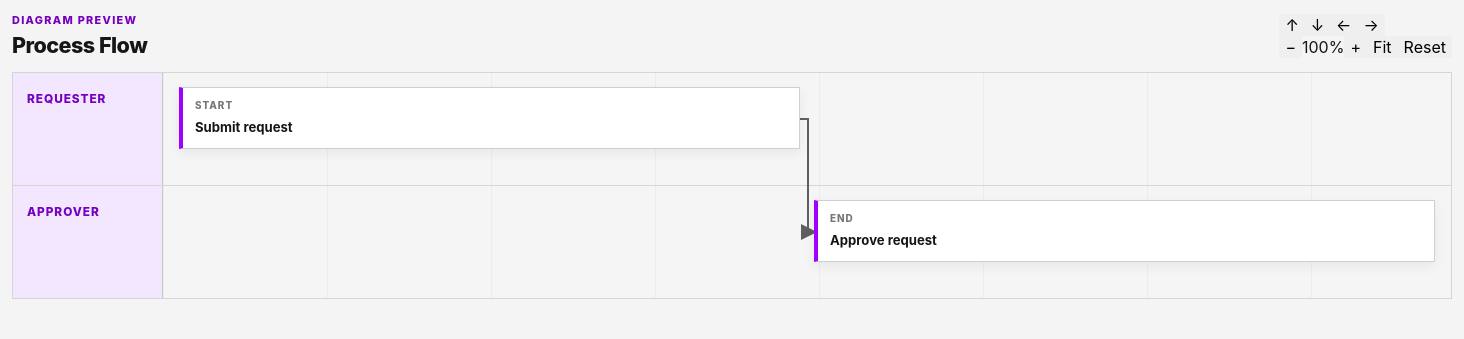
it: ProcessDiagramPreview › updates and resets the diagram zoom level
Expected: the text "100%" is shown, [1302, 37, 1344, 57]
Click the button named "Zoom in": point(1356, 47) [1344, 36, 1367, 58]
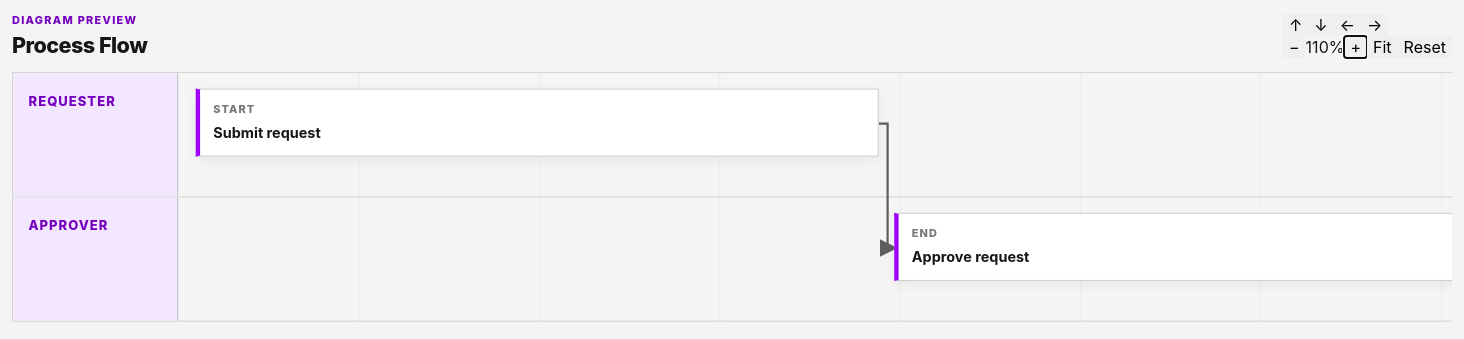
Now the text "110%" is shown, box [1306, 37, 1344, 57]
Click the button named "Zoom out": point(1294, 47) [1283, 36, 1306, 58]
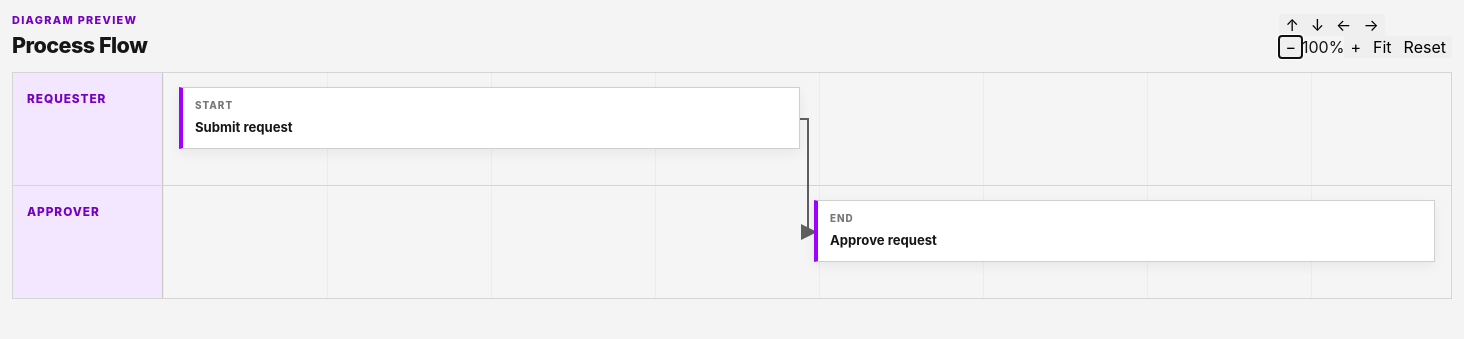
Now the text "100%" is shown, box [1302, 37, 1344, 57]
Click the button named "Zoom in": point(1356, 47) [1344, 36, 1367, 58]
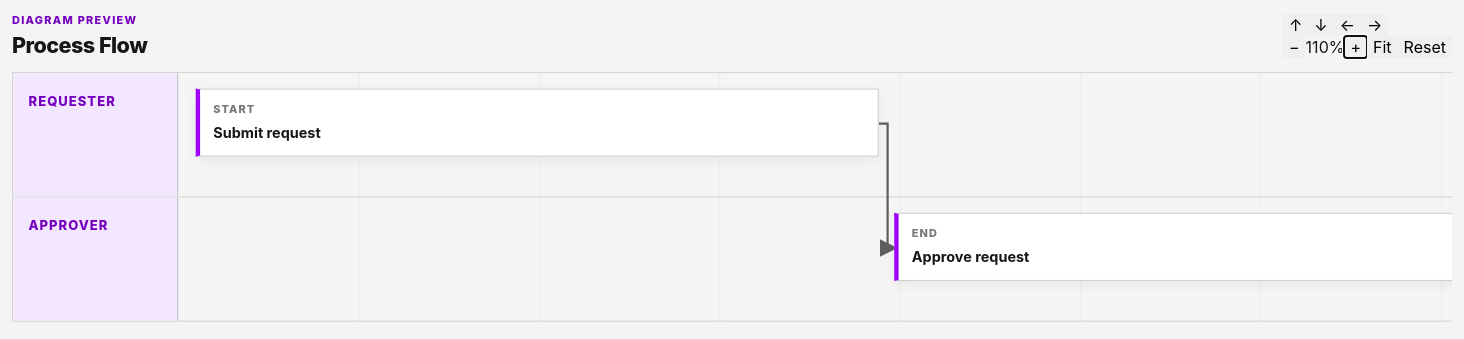
Click the button with aria-label "Reset diagram view": point(1425, 47) [1398, 36, 1452, 58]
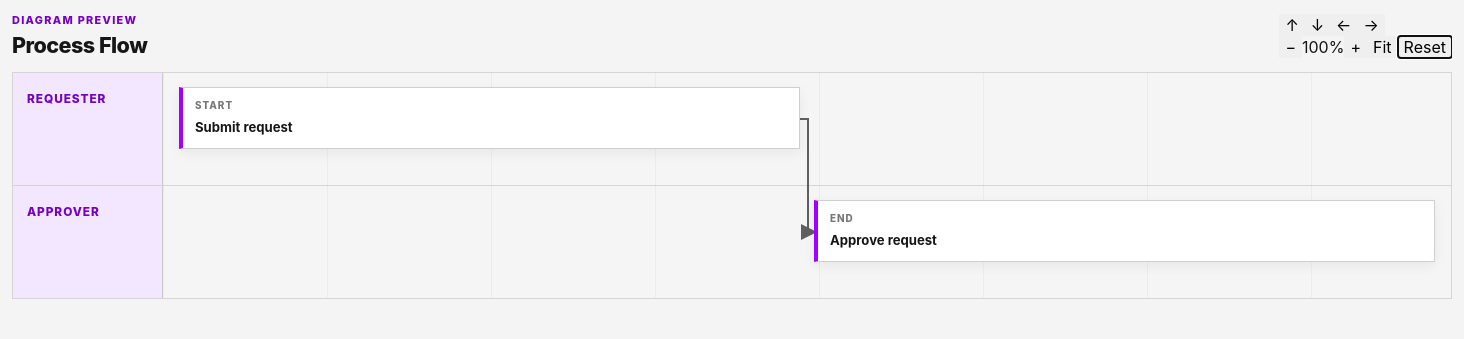
Now the text "100%" is shown, box [1302, 37, 1344, 57]
